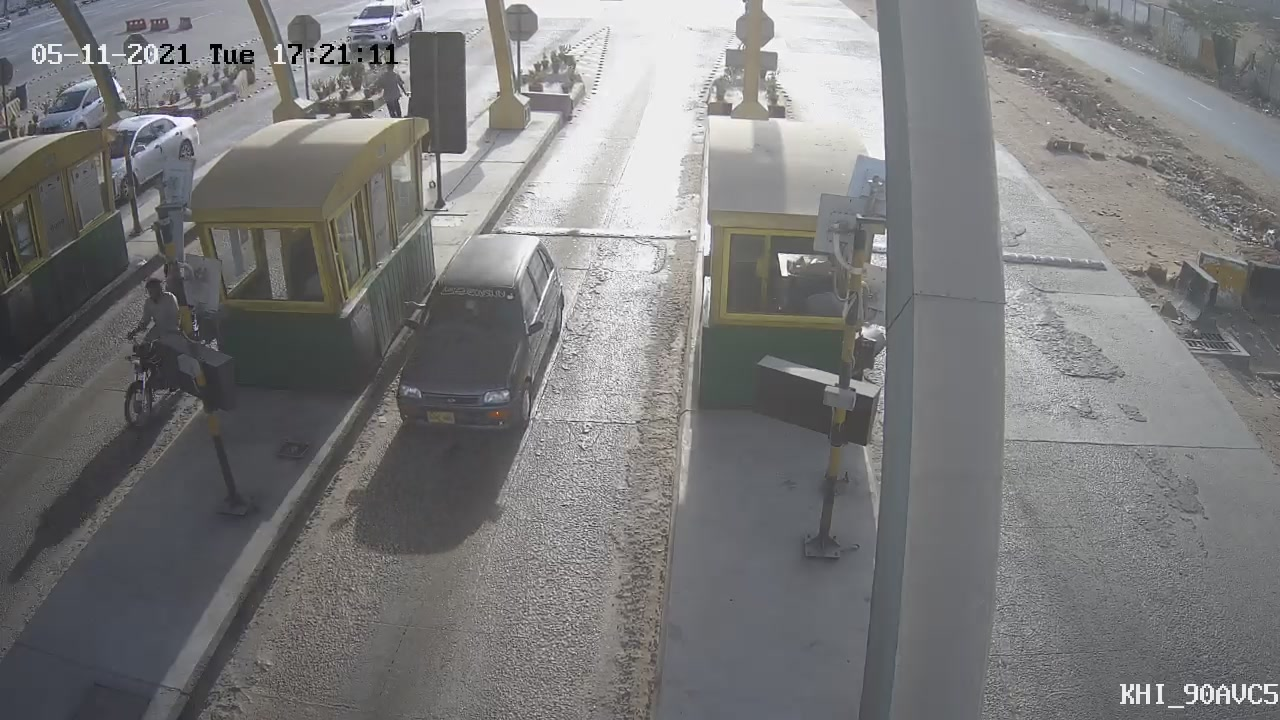F1: (370, 220, 585, 460)
